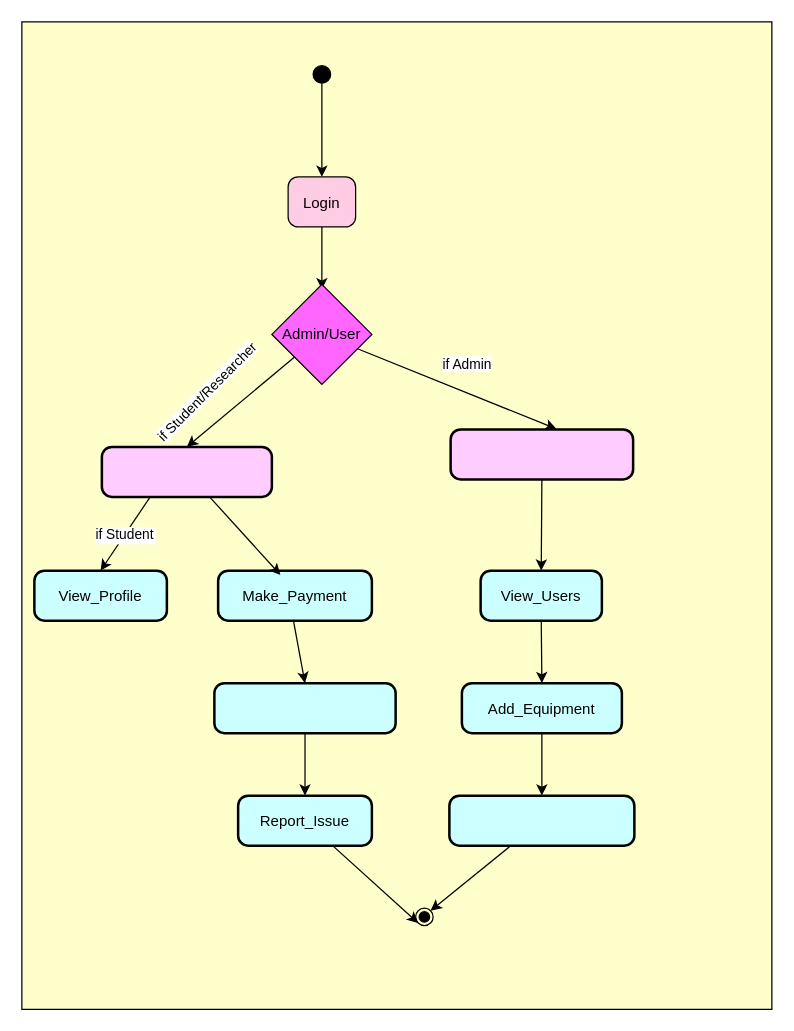
The diagram is 794 pixels wide and 1031 high, and some of its shapes have lost their labels. Here are the shapes that lost their labels. From the top down, the box of each, then its label:
(100, 445, 272, 498): View_Equipment
(449, 428, 634, 480): Manage_Payments
(212, 681, 396, 734): Provide_Feedback
(448, 794, 635, 846): Delete_Equipment
